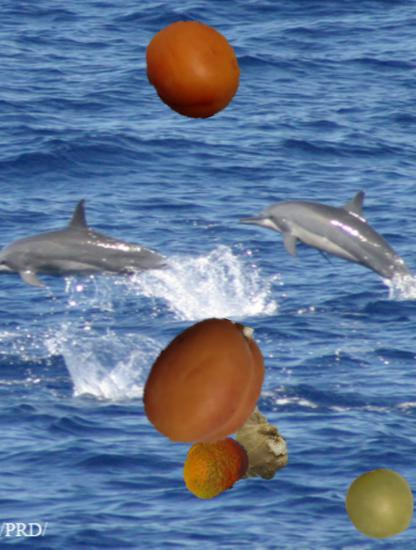Apricot: (137, 315, 273, 451), (142, 19, 244, 121)
Ginger: (214, 409, 290, 485)
Grape: (345, 470, 416, 541)
Mandarine: (179, 430, 250, 501)
